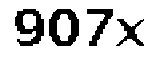0: (46, 7, 80, 51)
7: (83, 4, 114, 49)
9: (8, 7, 44, 48)
x: (115, 17, 149, 48)
